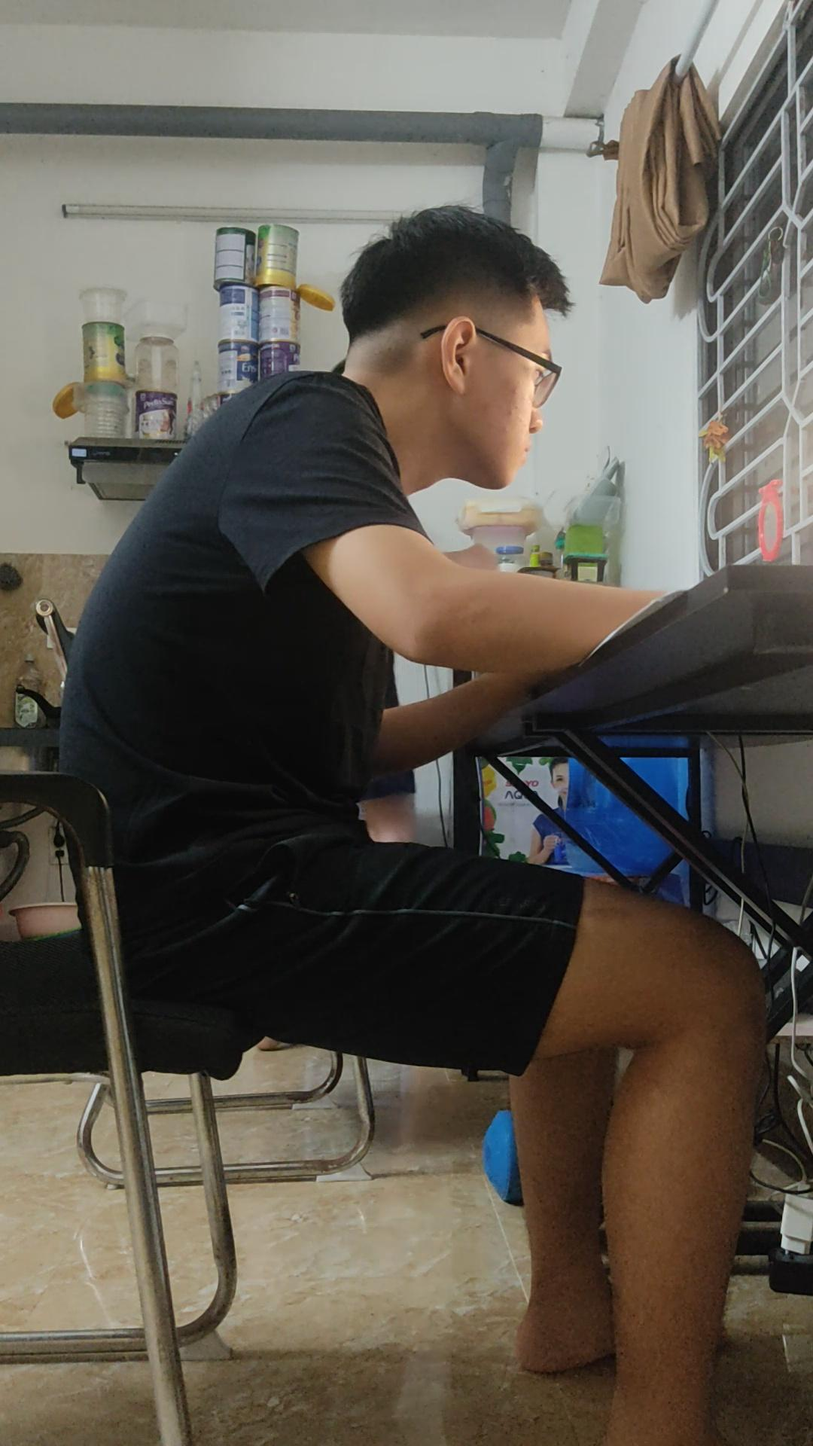BadPosture: (60, 206, 750, 1445)
